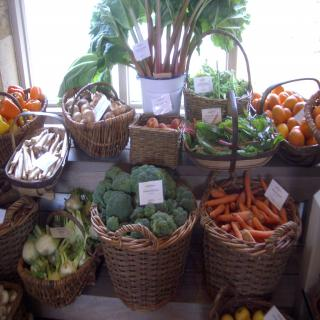Carrot: (208, 184, 288, 254)
